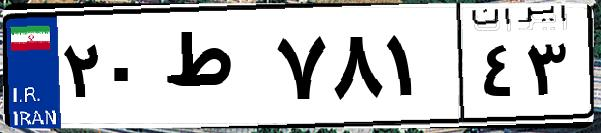0: (110, 28, 158, 98)
1: (385, 28, 445, 110)
2: (57, 26, 110, 100)
3: (525, 38, 570, 115)
4: (475, 38, 525, 113)
7: (270, 28, 330, 110)
8: (330, 28, 385, 110)
ط: (158, 20, 270, 120)
